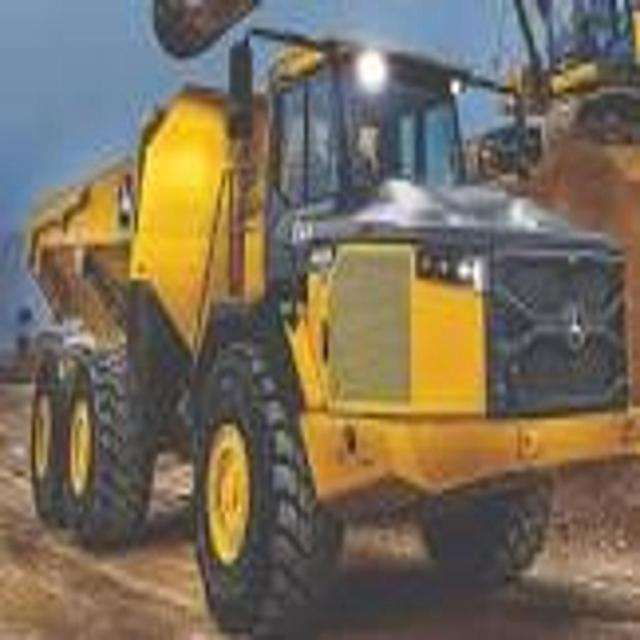dump_truck: (23, 23, 634, 640)
